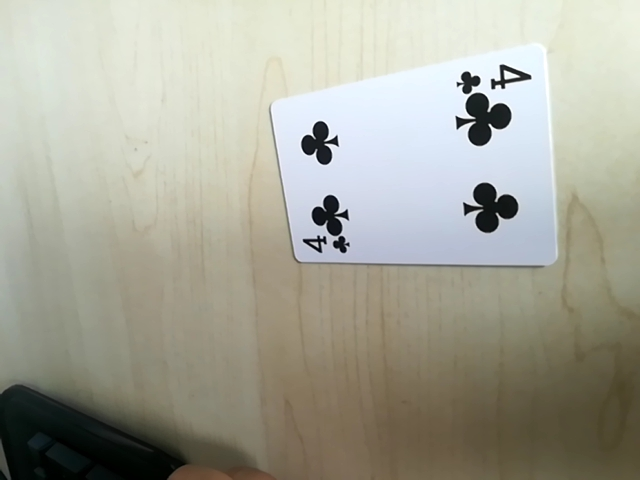mh 4: (454, 57, 536, 94), (297, 231, 352, 259)
